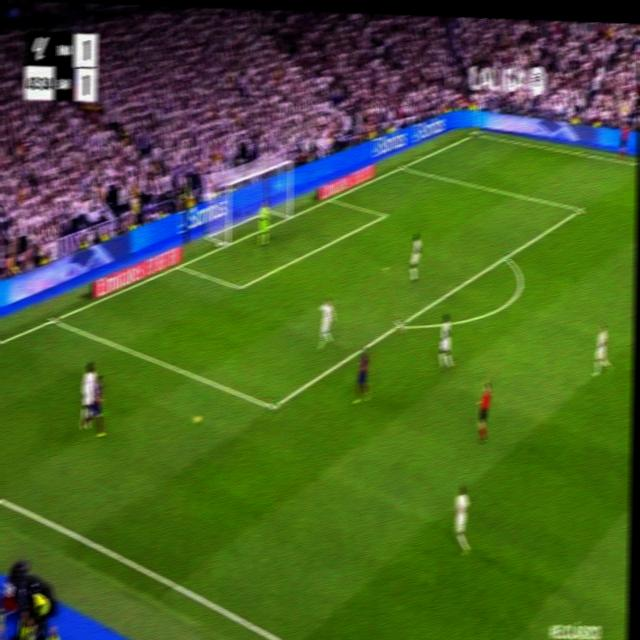bigarea_bottom_inner: (266, 393, 279, 420)
bigarea_bottom_outter: (48, 311, 59, 329)
bigarea_top_inner: (575, 200, 584, 217)
bigarea_top_outter: (399, 160, 407, 172)
bottom_arc_area_intersection: (394, 313, 406, 335)
corner: (469, 127, 482, 139)
smallarea_bottom_inner: (234, 277, 245, 297)
smallarea_top_inner: (380, 208, 388, 220)
top_arc_area_intersection: (501, 248, 511, 265)
